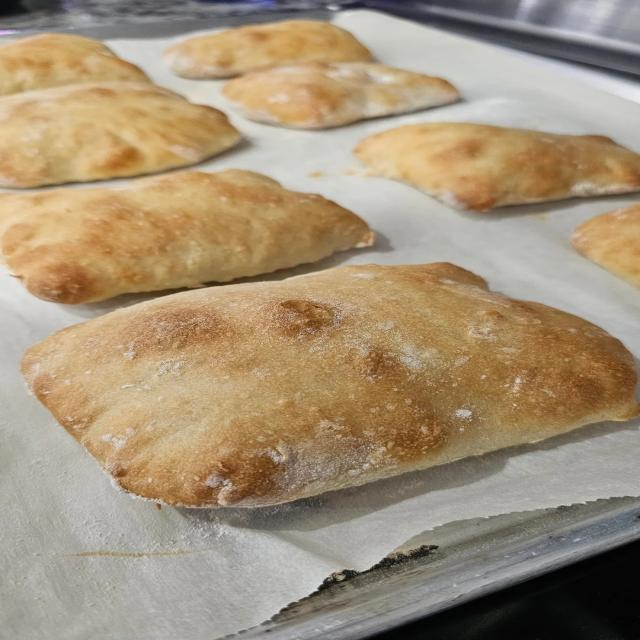Ciabatta: (21, 263, 639, 509), (0, 169, 375, 304), (0, 82, 240, 188), (353, 123, 639, 211), (222, 63, 461, 130)
